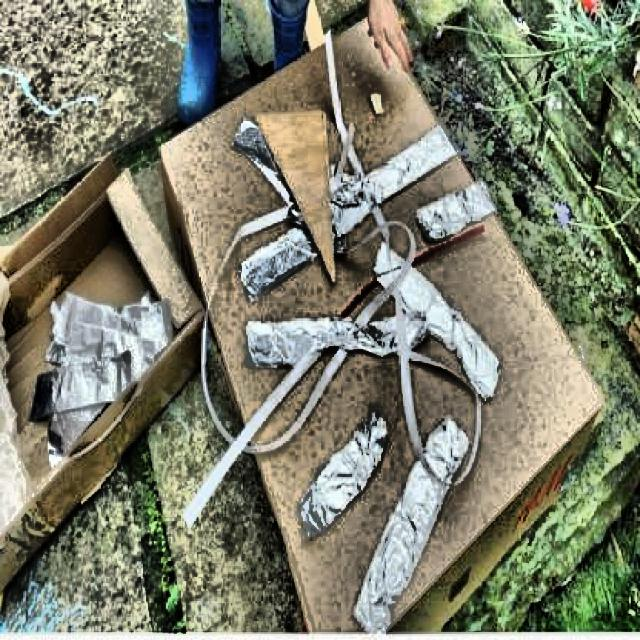Cardbox: (0, 154, 205, 606)
